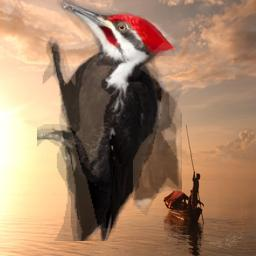Woodpecker: (37, 0, 182, 241)
